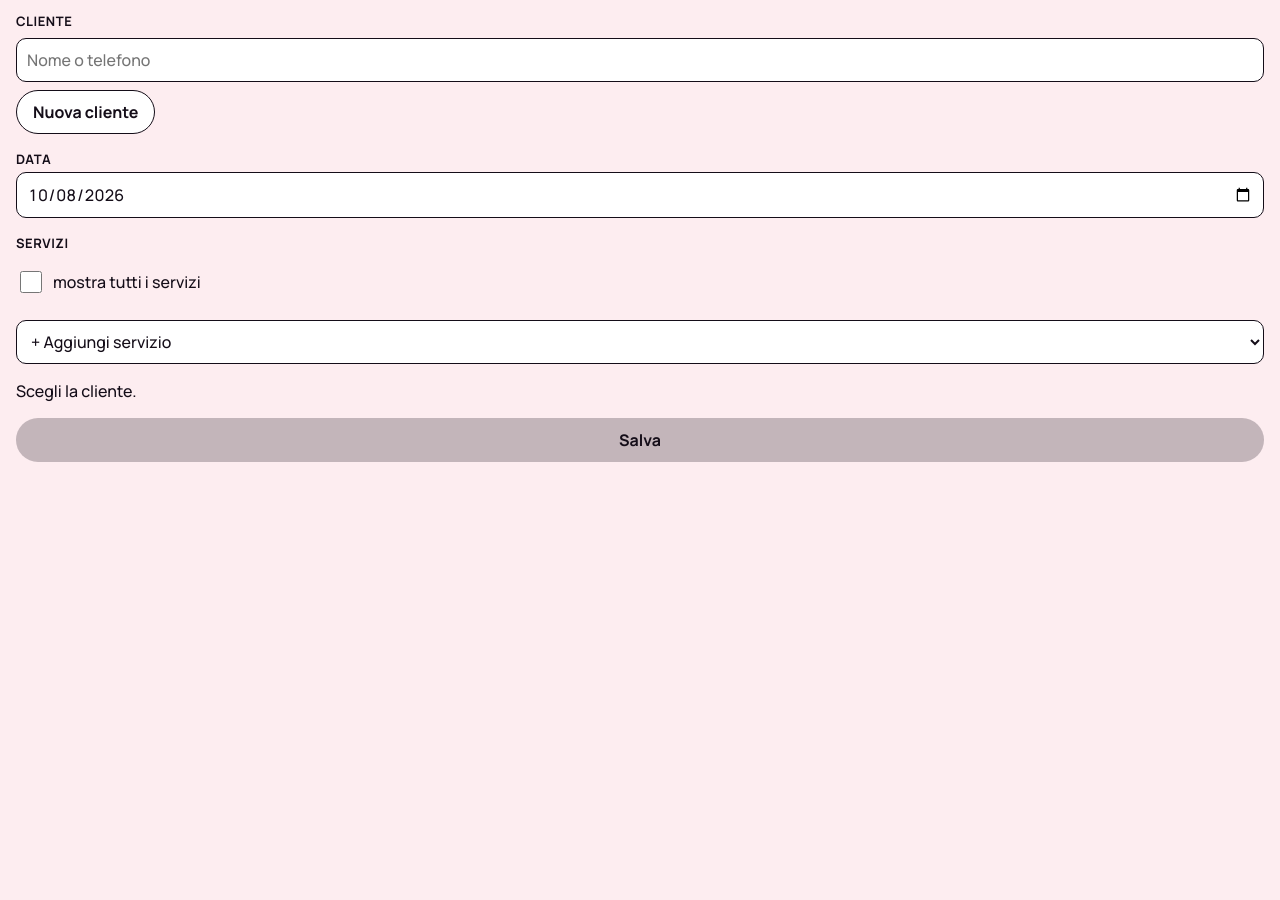
Test: la cliente › «Nuova cliente» porta la riga sull informativa e propone i doppioni
The width and height of the screenshot is (1280, 900).
Step 1. Type "maria rosi" into the search field named "Cerca la cliente per nome o telefono" → (640, 60), box [16,38,1264,82]
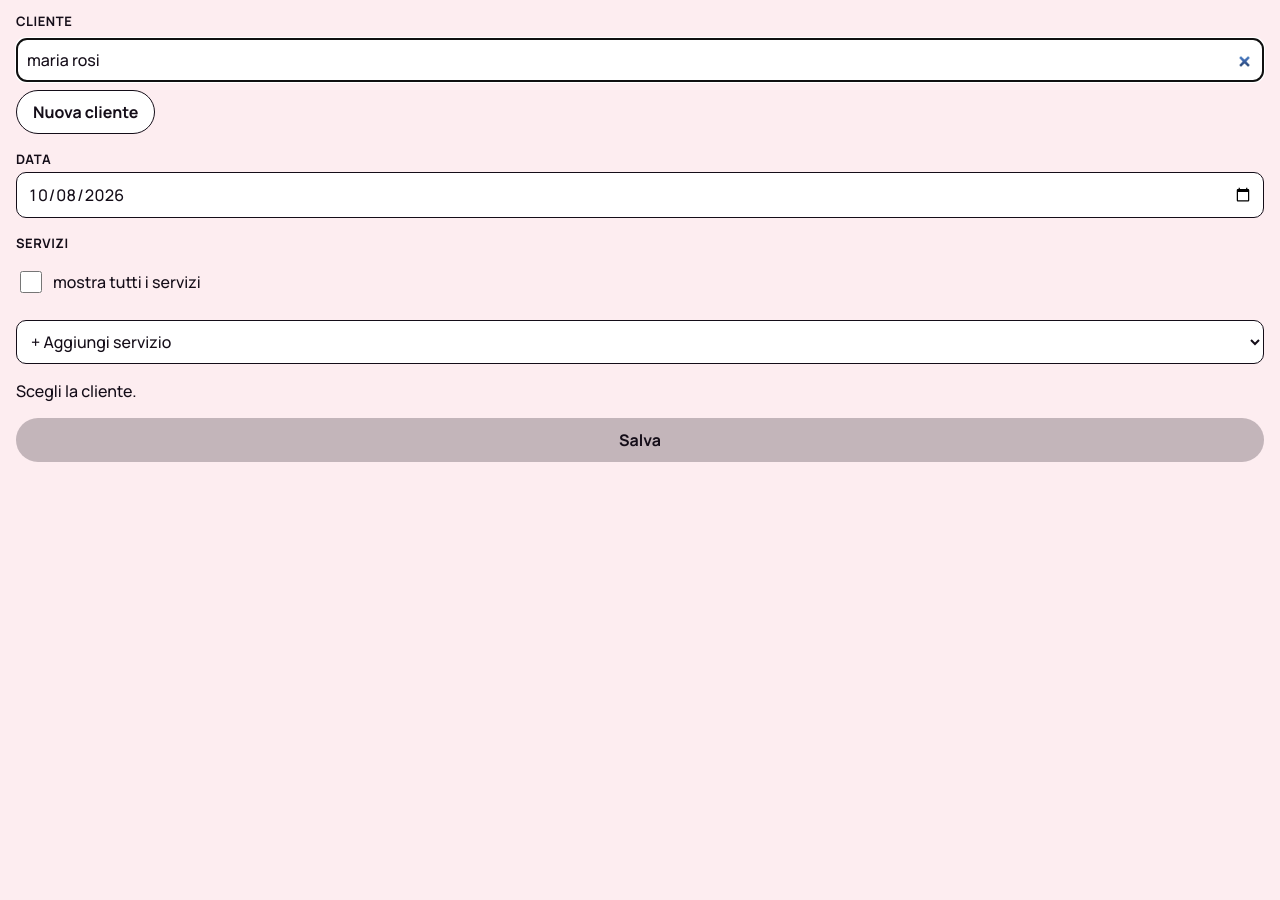
Step 2. Click the button "Nuova cliente" → (86, 112), box [16,90,155,134]
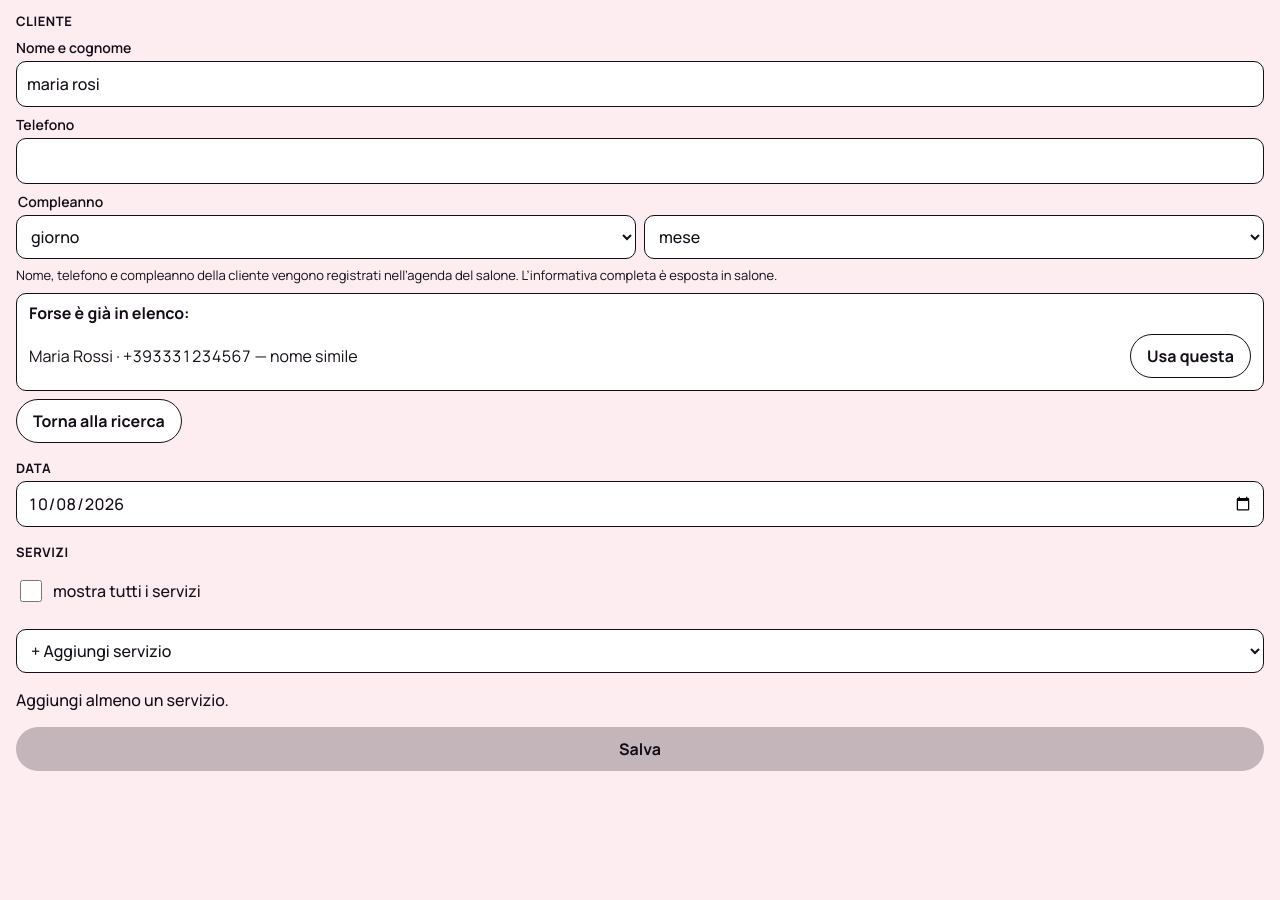
Expected: the field labelled "Nome e cognome" holds "maria rosi", [16,61,1264,107]
Expected: the text "L’informativa completa è esposta in salone" is shown, [16,266,777,284]
Expected: the text "Forse è già in elenco:" is shown, [29,302,190,324]
Step 3. Type "333 1234567" into the field labelled "Telefono" → (640, 161), box [16,138,1264,184]
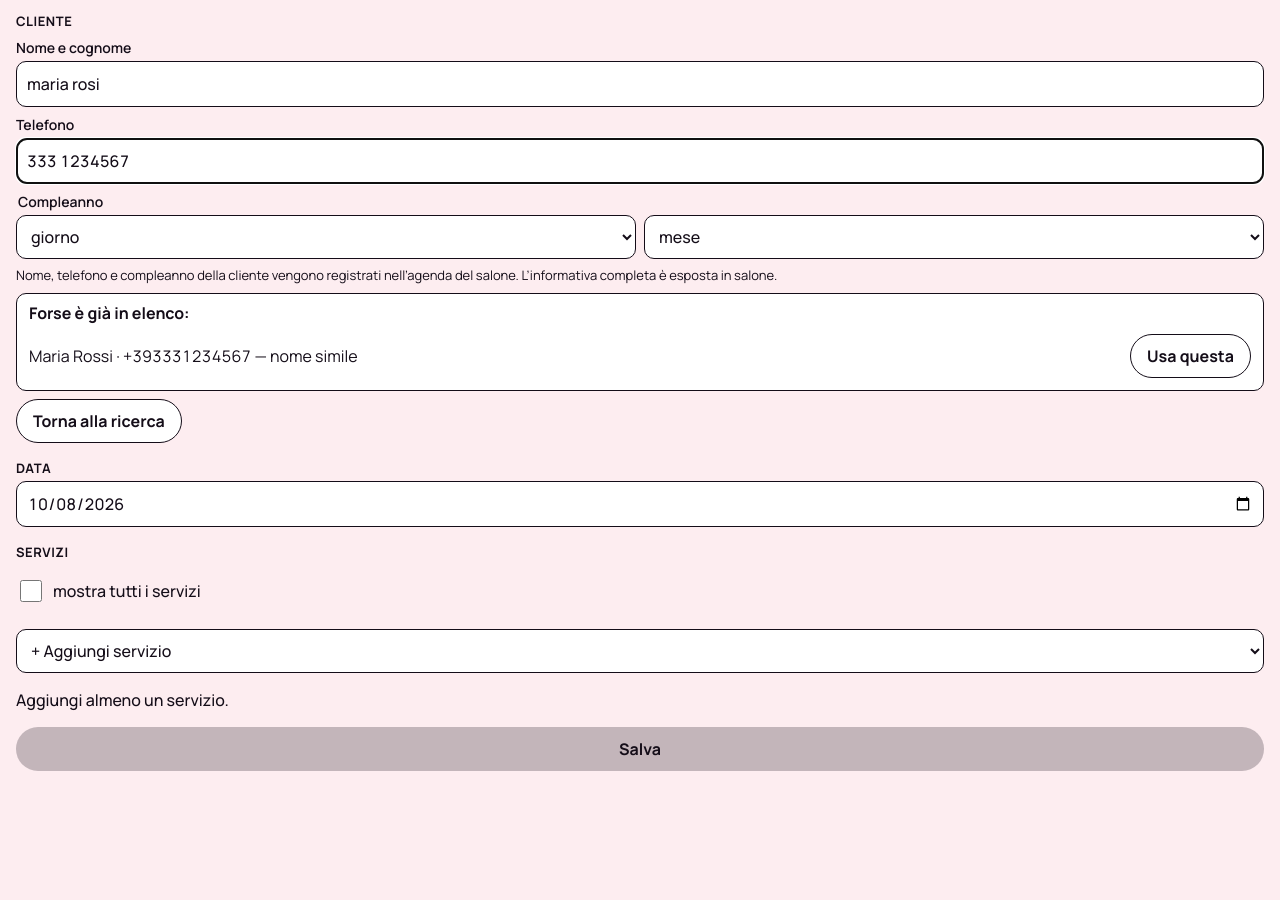
Step 4. Click the button "Usa questa" → (1191, 356), box [1130,334,1251,378]
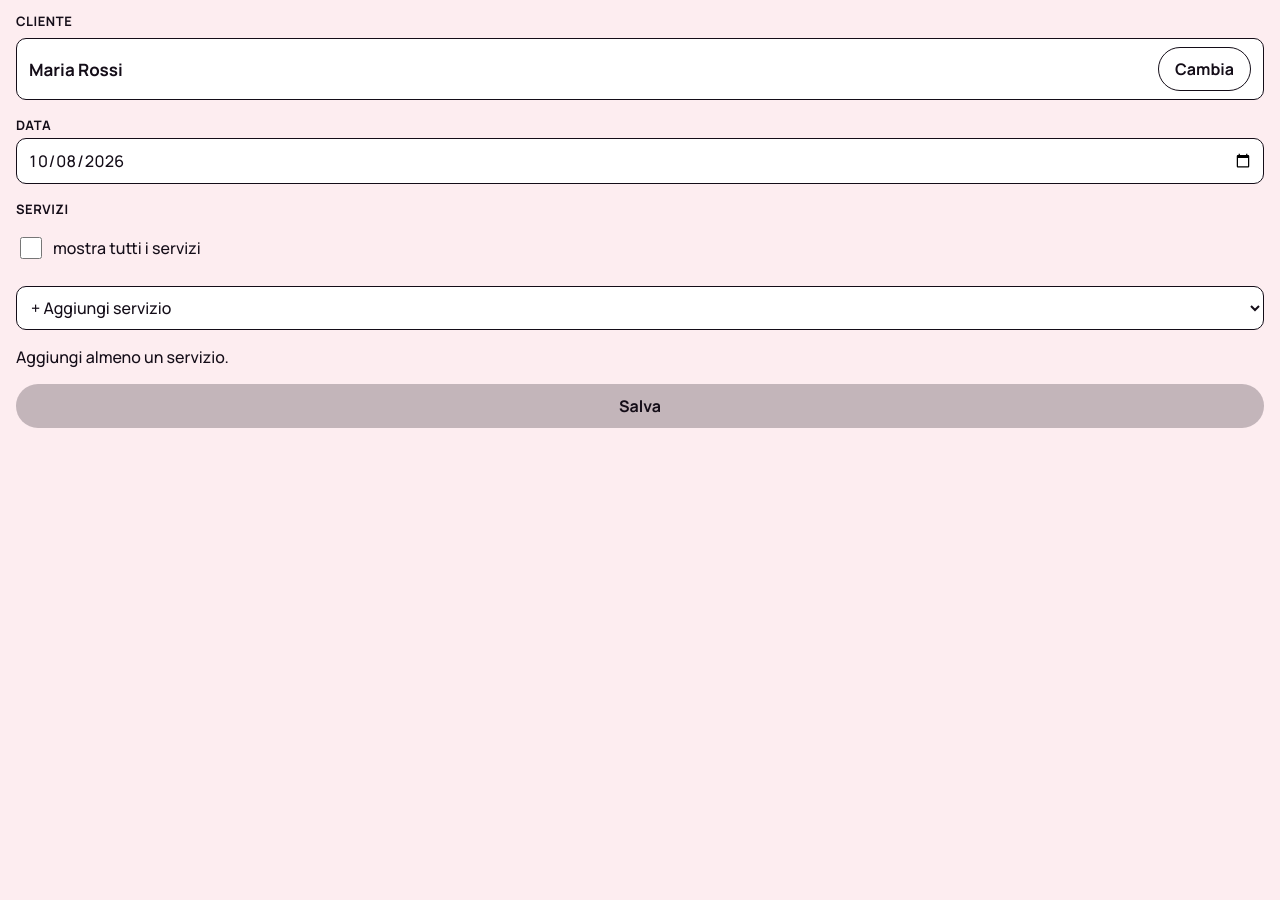
Expected: the text "Maria Rossi" is shown, [29,58,123,80]
Expected: the text labelled "Nome e cognome" is gone
